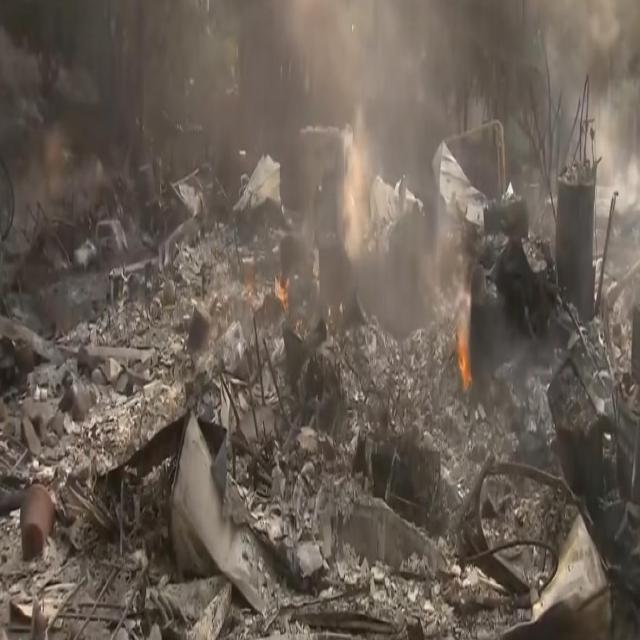Fire: (256, 248, 296, 330), (452, 318, 479, 410)
Smoke: (303, 6, 634, 203)
